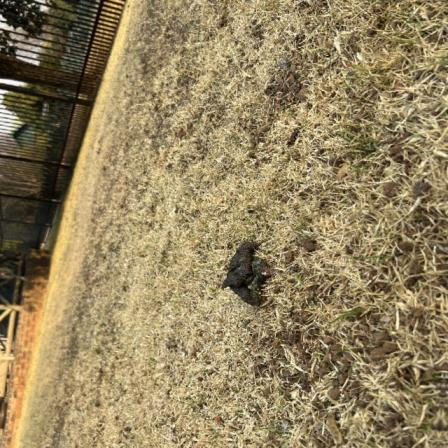dog-poop: (220, 240, 269, 304)
